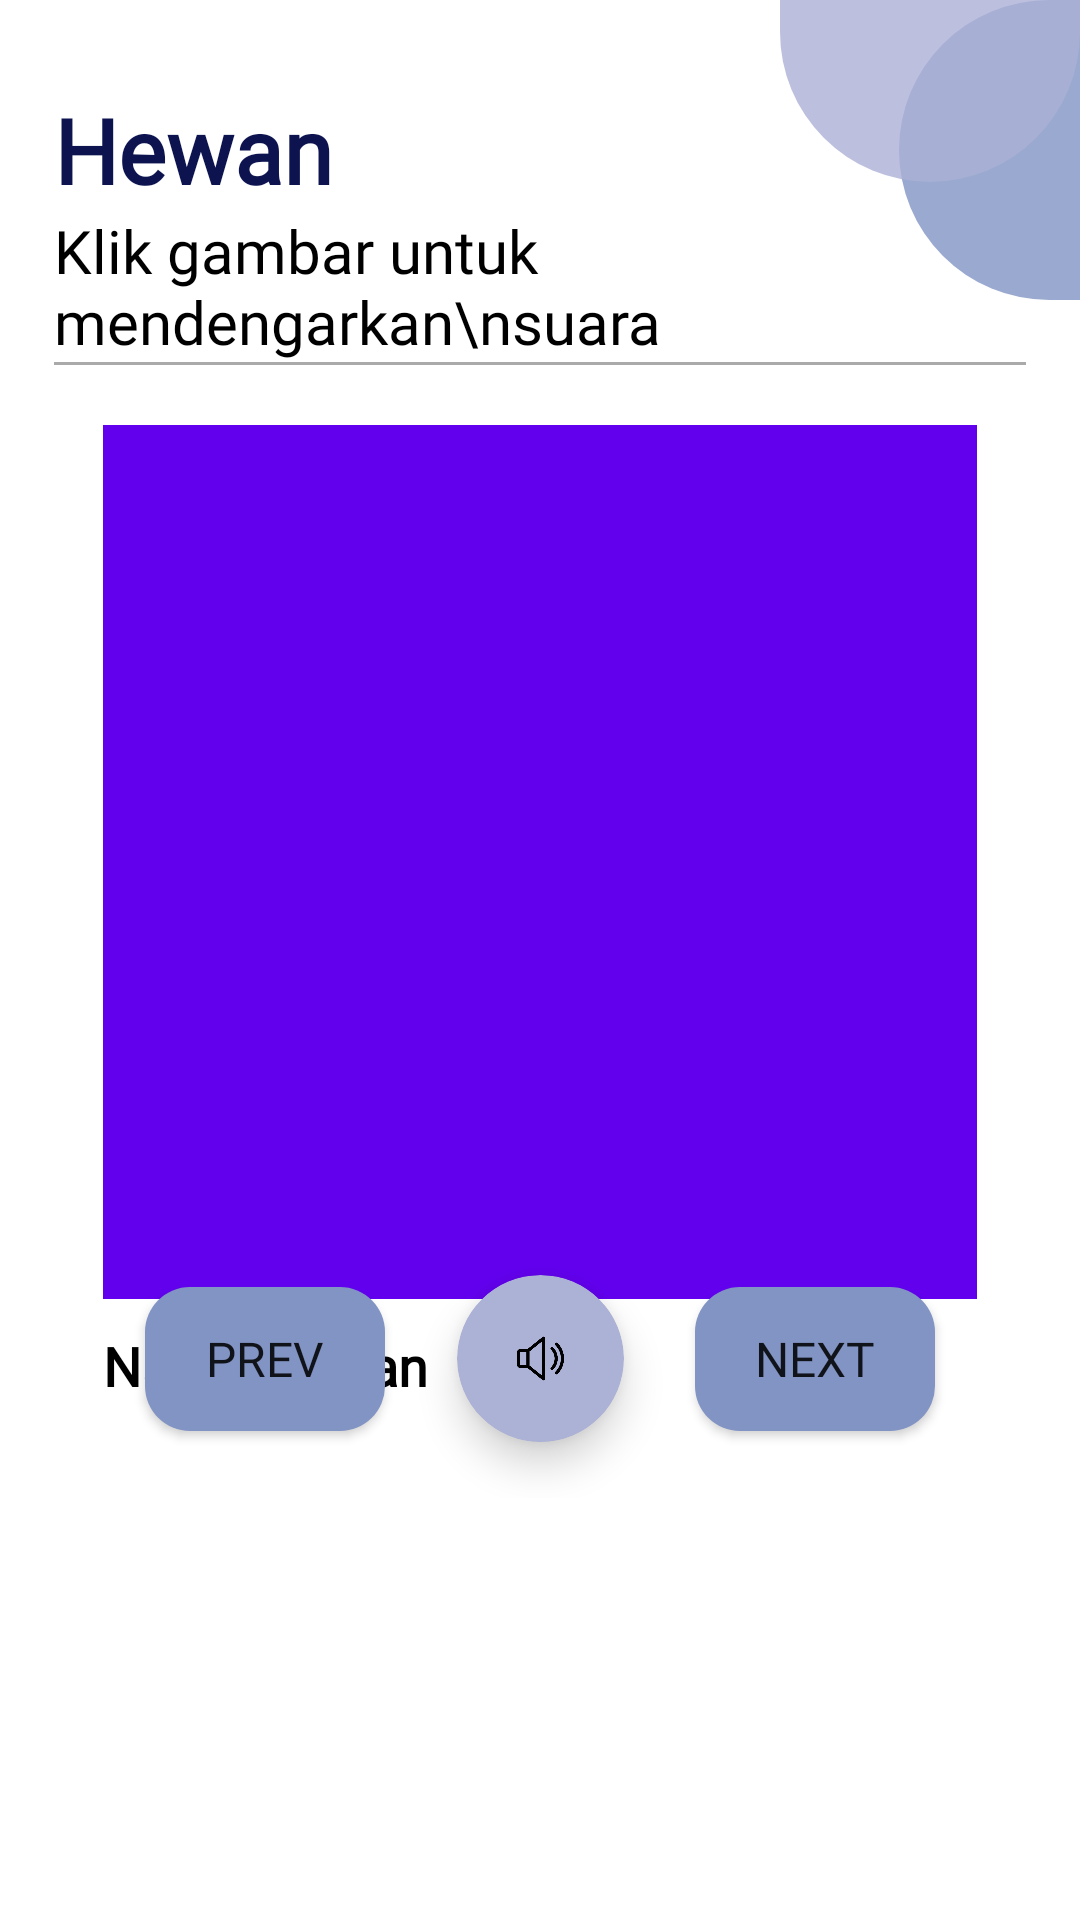

Screen size 1080x1920. Icon name, then its center in pixels as (x,y):
volume: (540,1358)
